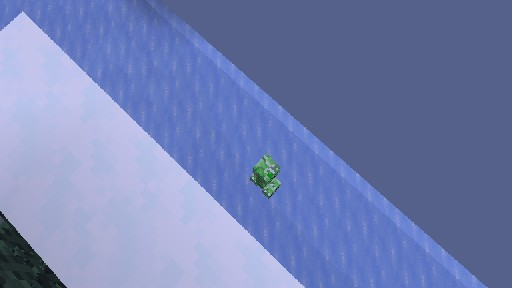creeper: (249, 152, 281, 198)
